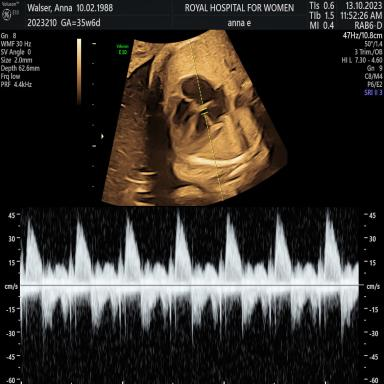Ultrasound-Waves: (28, 207, 356, 384)
